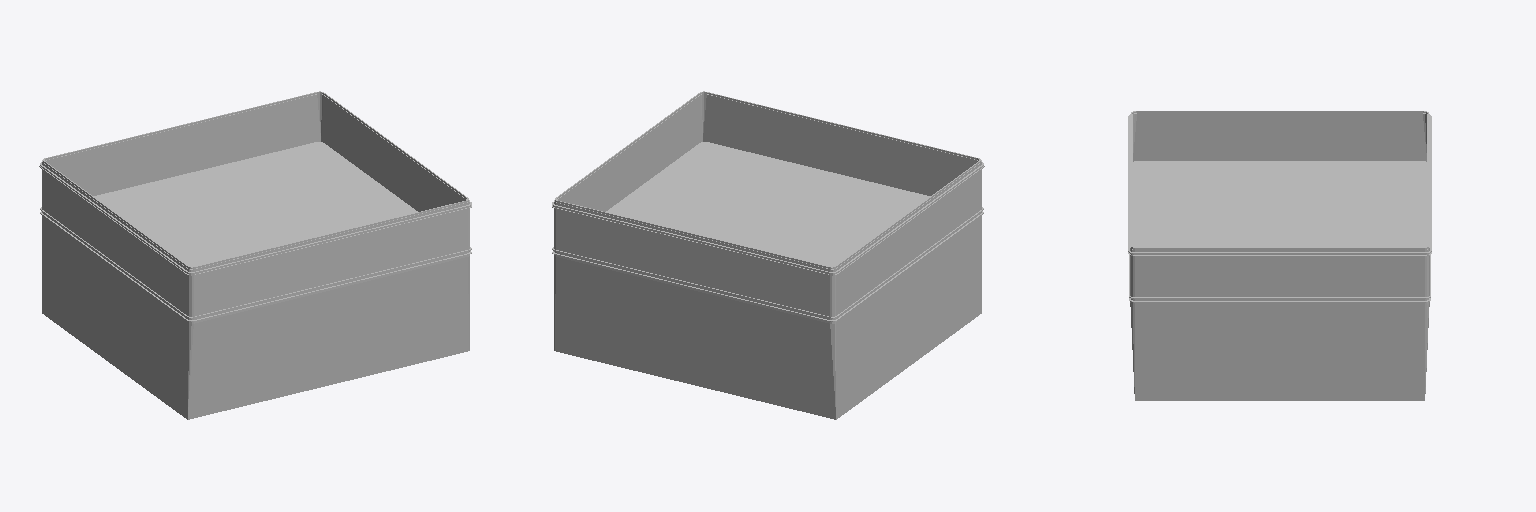
File: boxtest.obj
3 renders of one model, left to right at view 1: azimuth 30°, elevation 25°; view 2: azimuth 150°, elevation 25°; view 3: azimuth 270°, elevation 25°, orthographic.
Visible parts, largest first — view 1: cube; view 2: cube; view 3: cube.
Boxes of the visible parts, <box> form: cube: <box>39,91,471,419</box>; cube: <box>552,91,984,419</box>; cube: <box>1128,111,1431,400</box>.
Bounding box in the file's own units: 11 × 5.64 × 10.13.